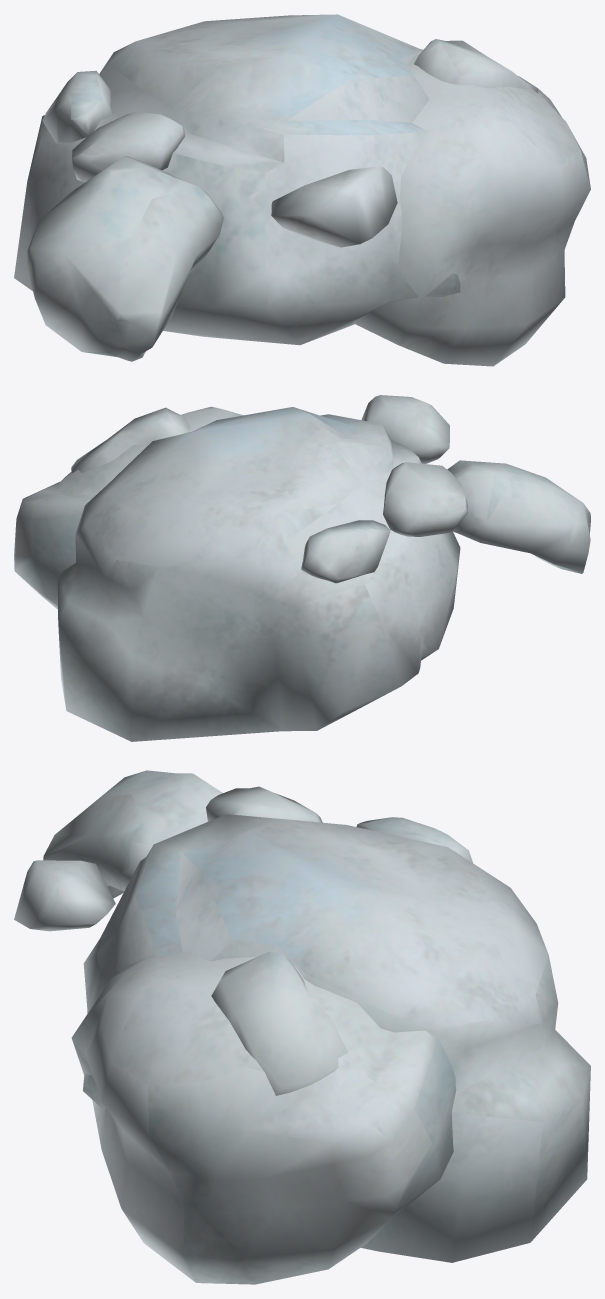
Rendered from P_RockDesert_Clump05.obj.
3 views of the same model, one above another, from view 1: azimuth 30°, elevation 25°; view 2: azimuth 150°, elevation 25°; view 3: azimuth 270°, elevation 25° (orthographic). The views are drawn at different scales.
Size of the model in its own units: 4.65 by 2.37 by 3.66.
